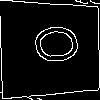O: (25, 24, 78, 64)
